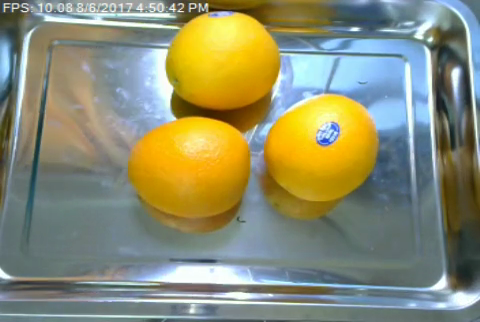Orange: (126, 116, 249, 219), (264, 92, 376, 202), (165, 11, 279, 110)
